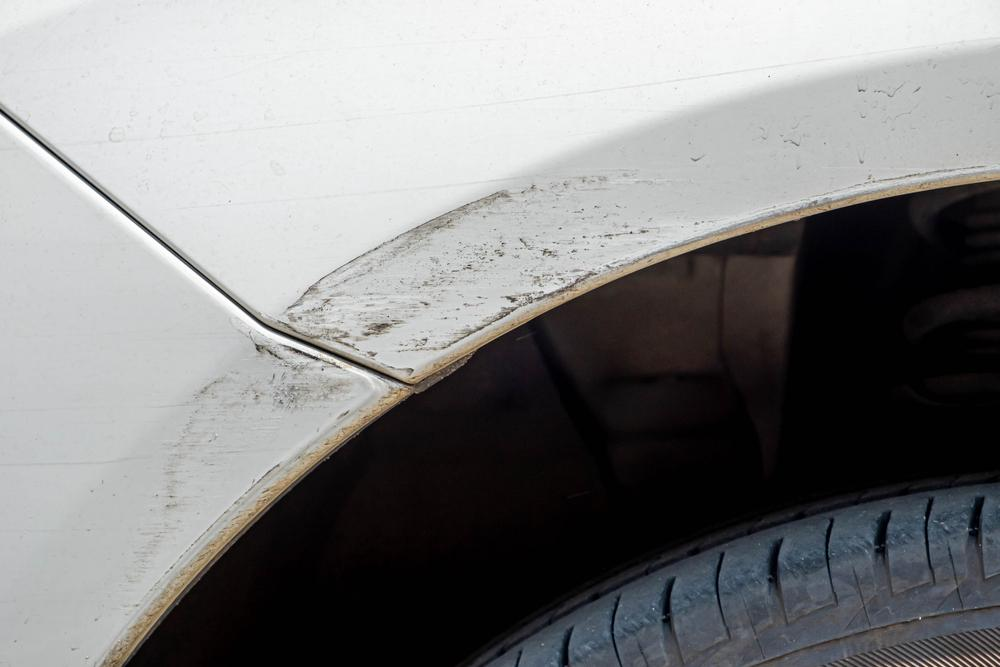scratch: (271, 165, 739, 383), (106, 320, 414, 623)
